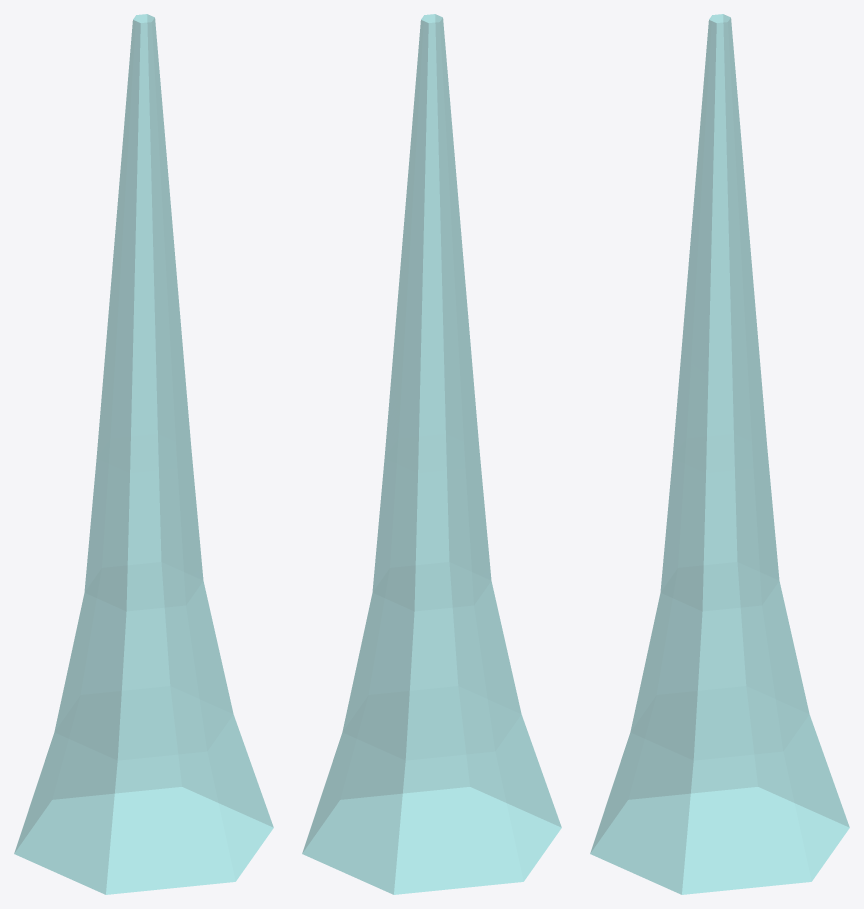
Rendered from Rock_Stalagmite_Ice_02.fbx.
3 renders of one model, left to right at view 1: azimuth 30°, elevation 25°; view 2: azimuth 150°, elevation 25°; view 3: azimuth 270°, elevation 25°, orthographic.
Visible parts, largest first — view 1: Rock_Stalagmite_Ice_02; view 2: Rock_Stalagmite_Ice_02; view 3: Rock_Stalagmite_Ice_02.
Boxes of the visible parts, x1,y1,x2,y2 form: Rock_Stalagmite_Ice_02: [14, 14, 273, 894]; Rock_Stalagmite_Ice_02: [302, 14, 561, 894]; Rock_Stalagmite_Ice_02: [590, 14, 849, 894].
Bounding box in the file's own units: 499 × 1769 × 507.
